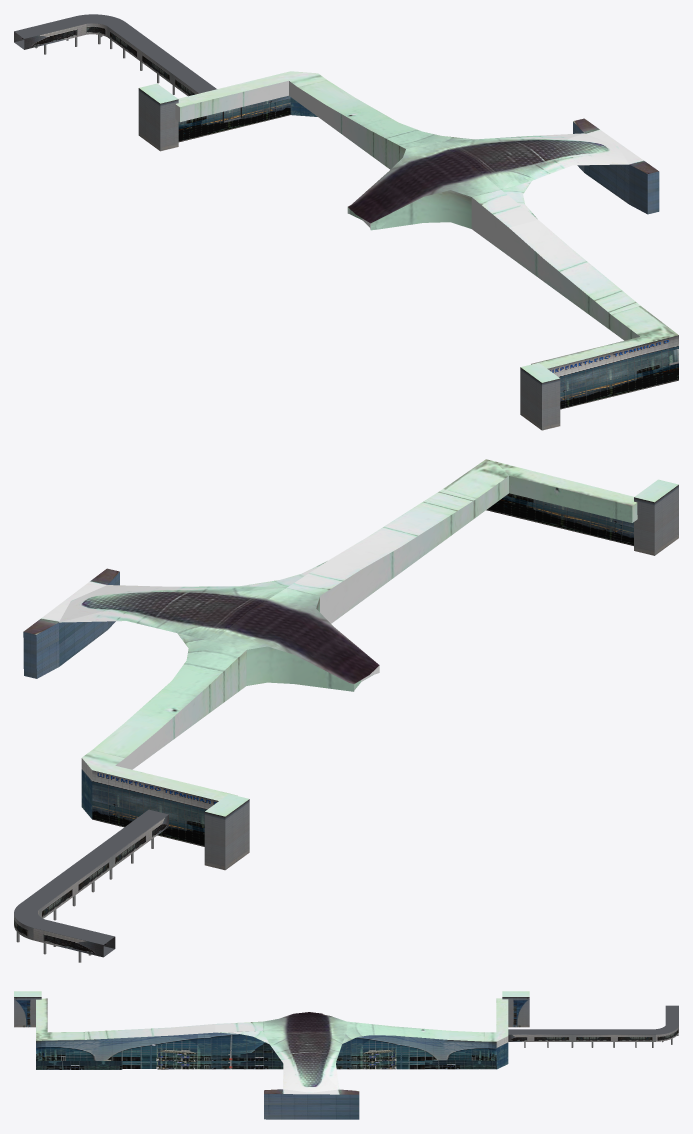
The model's file is Terminal_D_Back.fbx.
3 views of the same model, one above another, from view 1: azimuth 30°, elevation 25°; view 2: azimuth 150°, elevation 25°; view 3: azimuth 270°, elevation 25° (orthographic). The views are drawn at different scales.
Parts seen in each view (by area): view 1: Polygon2, Polygon; view 2: Polygon2, Polygon; view 3: Polygon2, Polygon.
Boxes of the visible parts, bbox=[...] form: Polygon2: bbox=[14, 14, 678, 409]; Polygon: bbox=[35, 34, 560, 430]; Polygon2: bbox=[14, 459, 637, 957]; Polygon: bbox=[16, 479, 678, 962]; Polygon2: bbox=[36, 991, 678, 1119]; Polygon: bbox=[14, 991, 678, 1047].
Bounding box in the file's own units: 15512 × 3036 × 43471.
1 material, 1 textured.
